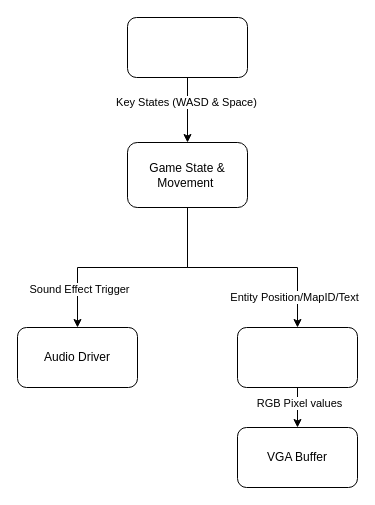
Image size: 375x505. Some labels were removed from this diagram. Each missing label, with the centre of its shape:
"PS2 Keyboard Driver" goes at point (187, 47).
"Rendering Logic" goes at point (297, 357).
